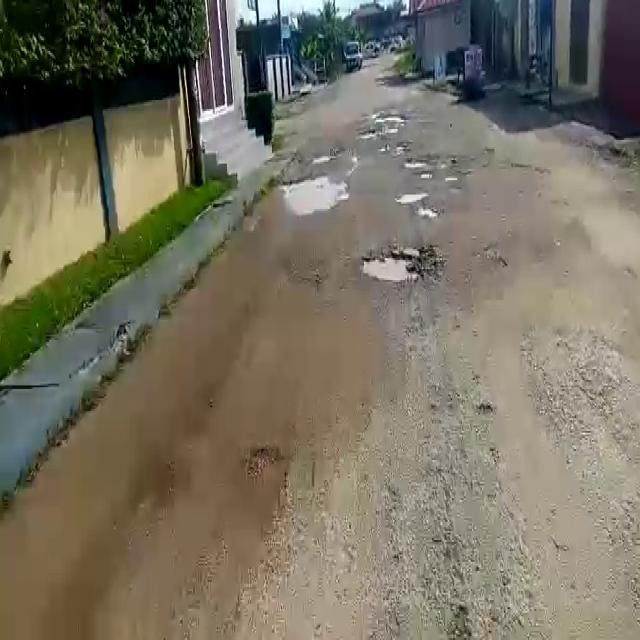Pothole: (358, 244, 435, 284), (245, 443, 286, 489), (403, 158, 433, 172)
